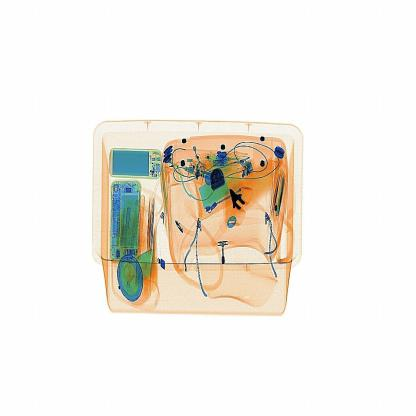gun: (223, 180, 259, 228)
